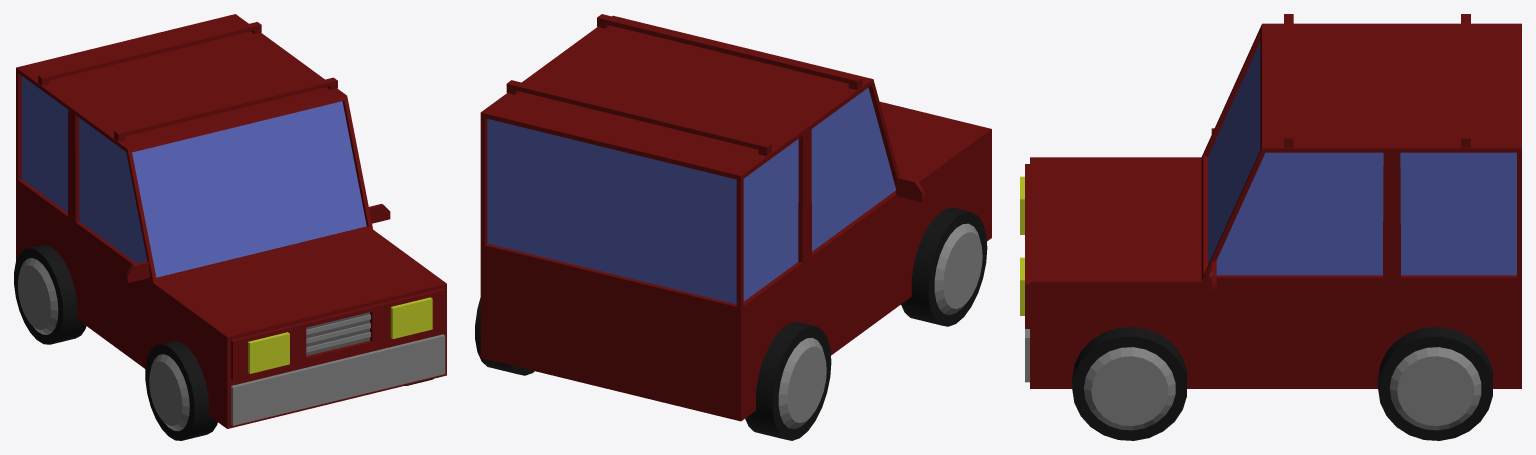
File: car.FBX
3 renders of one model, left to right at view 1: azimuth 30°, elevation 25°; view 2: azimuth 150°, elevation 25°; view 3: azimuth 270°, elevation 25°, orthographic. The views are drawn at different scales.
Visible parts, largest first — view 1: Box001, Cylinder001, Cylinder002; view 2: Box001, Cylinder002, Cylinder001, Cylinder004; view 3: Box001, Cylinder004, Cylinder003.
Boxes of the visible parts, box(x1,y1,x2,y2) form: Box001: box(16, 14, 446, 428); Cylinder001: box(145, 341, 217, 440); Cylinder002: box(14, 244, 86, 344); Box001: box(480, 14, 991, 421); Cylinder002: box(745, 322, 831, 440); Cylinder001: box(901, 208, 987, 326); Cylinder004: box(475, 298, 534, 375); Box001: box(1020, 14, 1521, 388); Cylinder004: box(1378, 327, 1492, 440); Cylinder003: box(1072, 327, 1186, 440).
Bounding box in the file's own units: 35.85 × 32.82 × 51.
